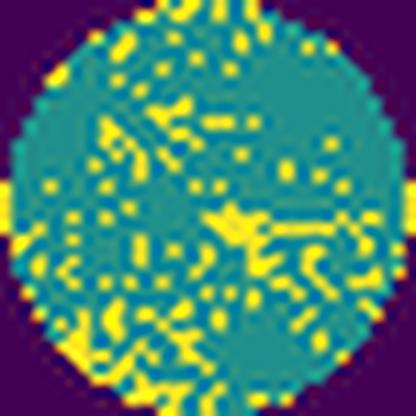Loc: (204, 202, 285, 272)
